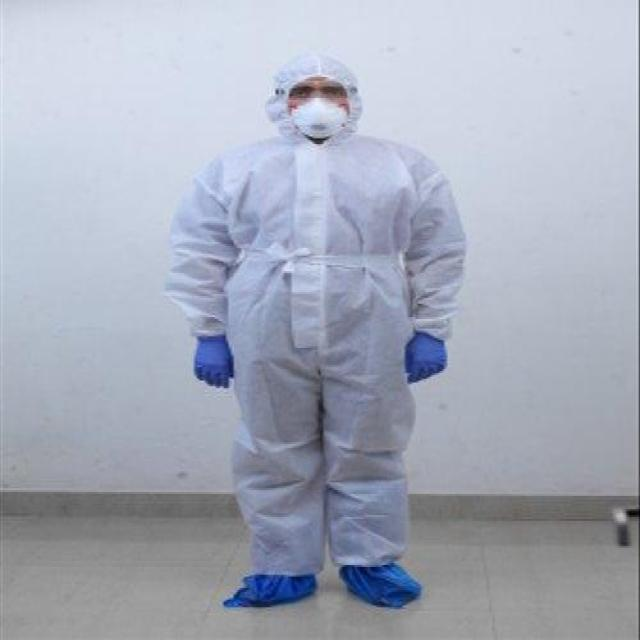Coverall: (165, 46, 466, 611)
Gloves: (403, 327, 447, 384), (194, 337, 236, 389)
Mask: (287, 100, 348, 136)
